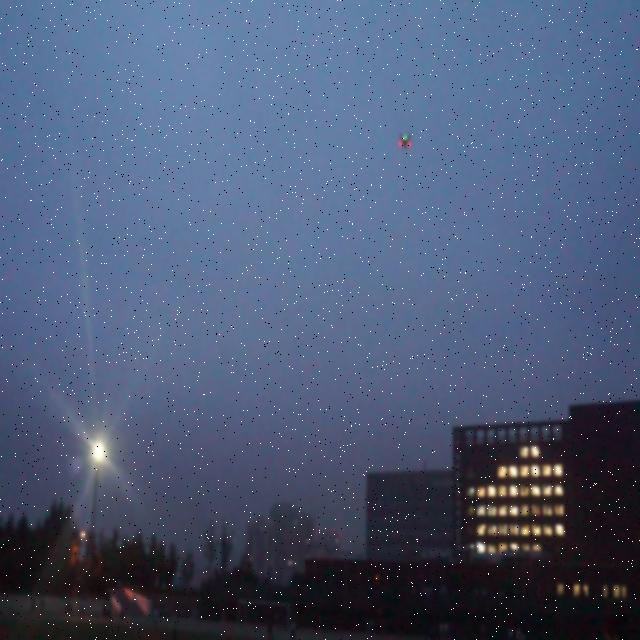UAV: (398, 133, 412, 148)
